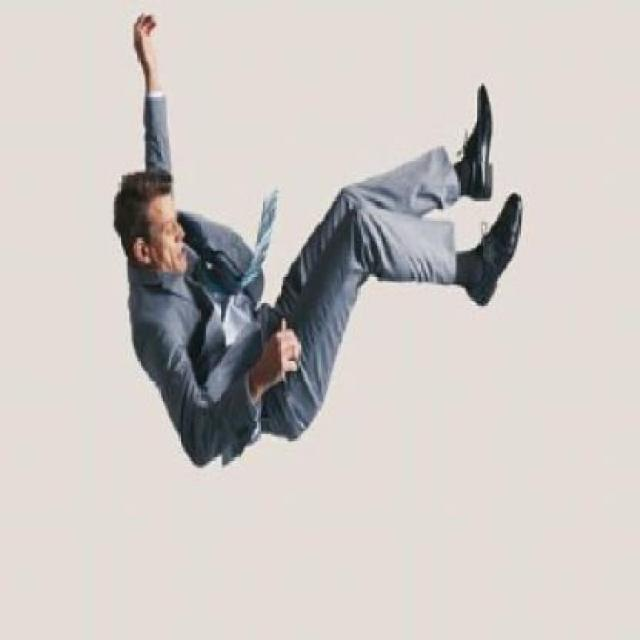fall: (109, 8, 529, 457)
